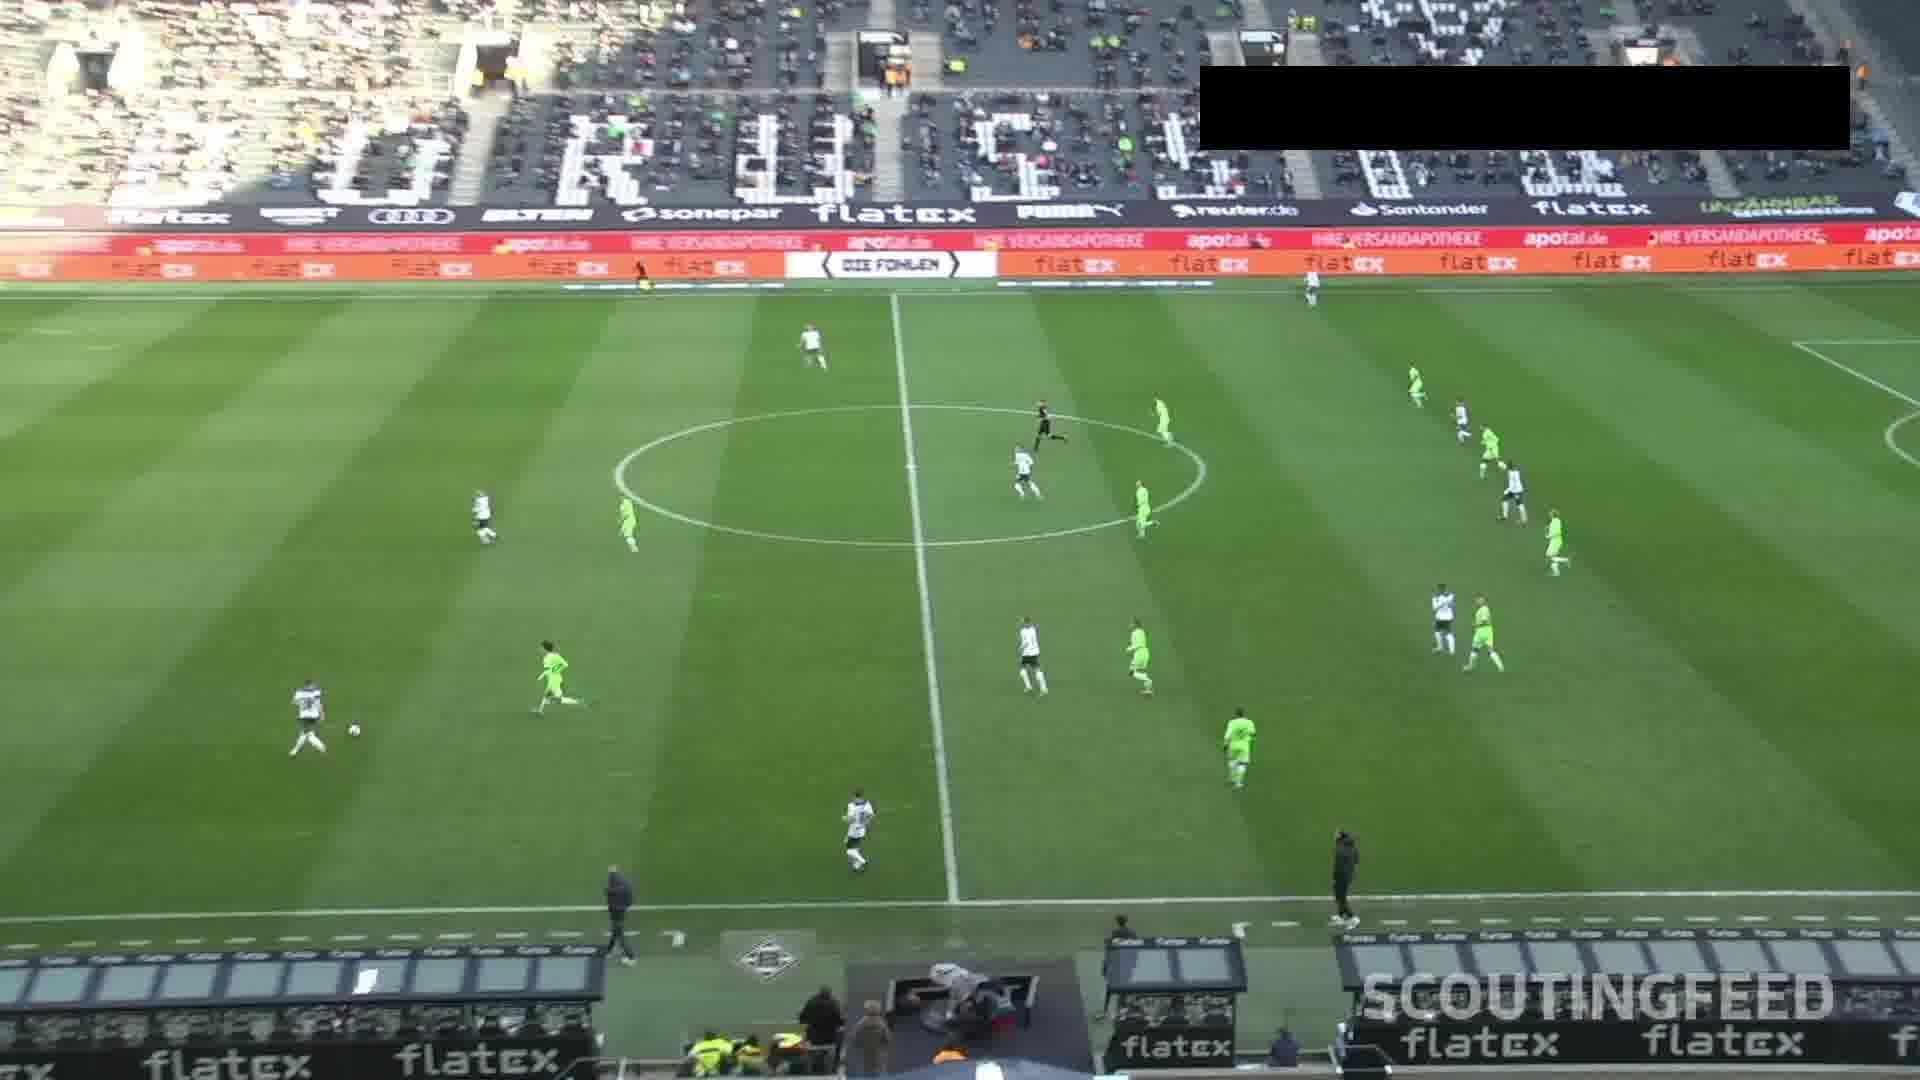football: (347, 723, 360, 737)
